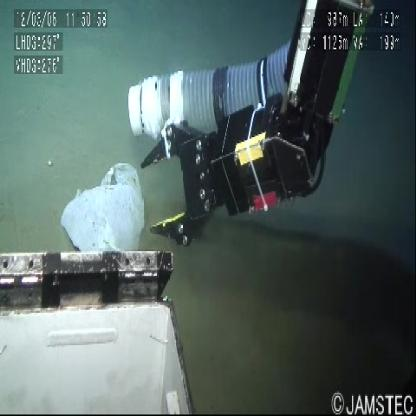Rov: (126, 2, 371, 254), (1, 243, 197, 416)
Rác: (48, 156, 157, 250)
